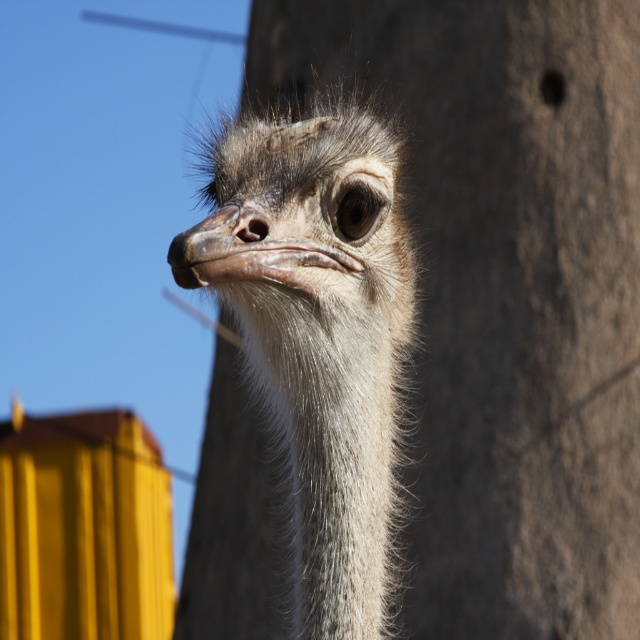Ostrich: (165, 92, 405, 639)
